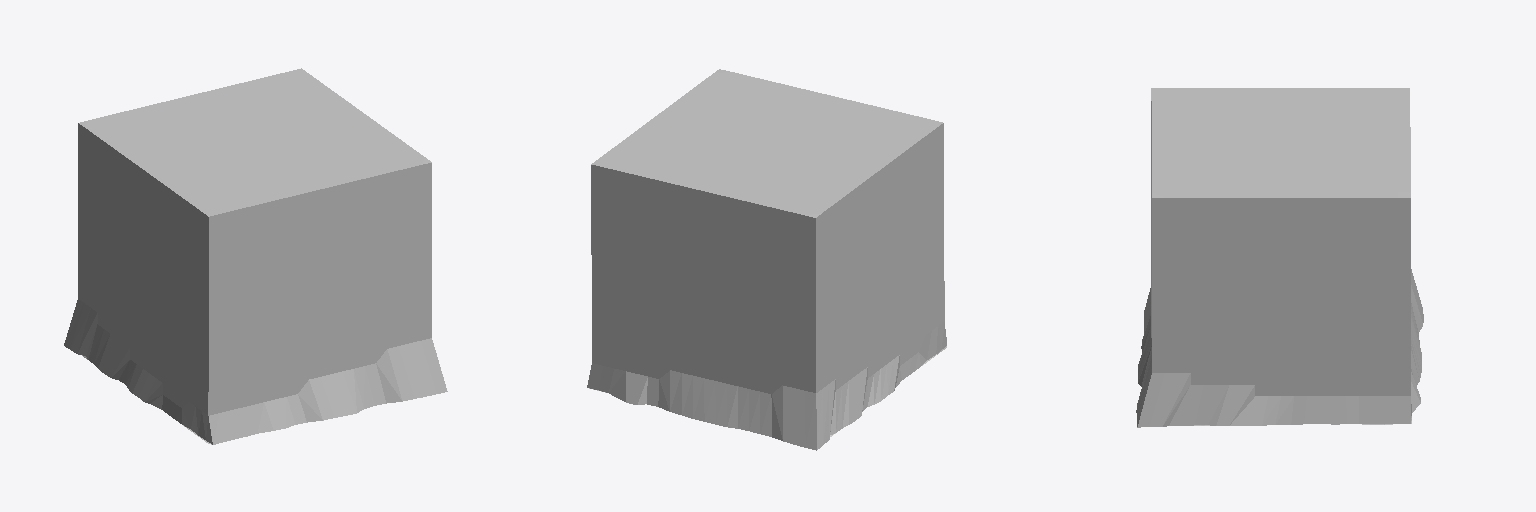
The model's file is mod0202.obj.
3 views of the same model, side by side, from view 1: azimuth 30°, elevation 25°; view 2: azimuth 150°, elevation 25°; view 3: azimuth 270°, elevation 25° (orthographic).
Parts seen in each view (by area): view 1: Box001; view 2: Box001; view 3: Box001.
Boxes of the visible parts, box(x1,y1,x2,y2) form: Box001: box(64, 68, 447, 444); Box001: box(587, 69, 946, 450); Box001: box(1136, 88, 1423, 427).
Size of the model in its own units: 0.5799 by 0.5219 by 0.5979.